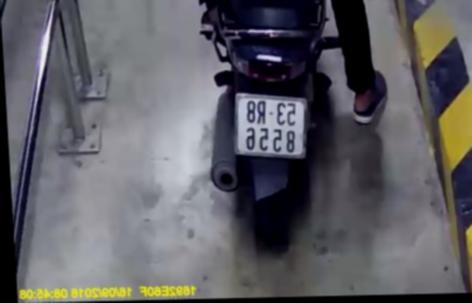License_Plate: (230, 89, 316, 163)
